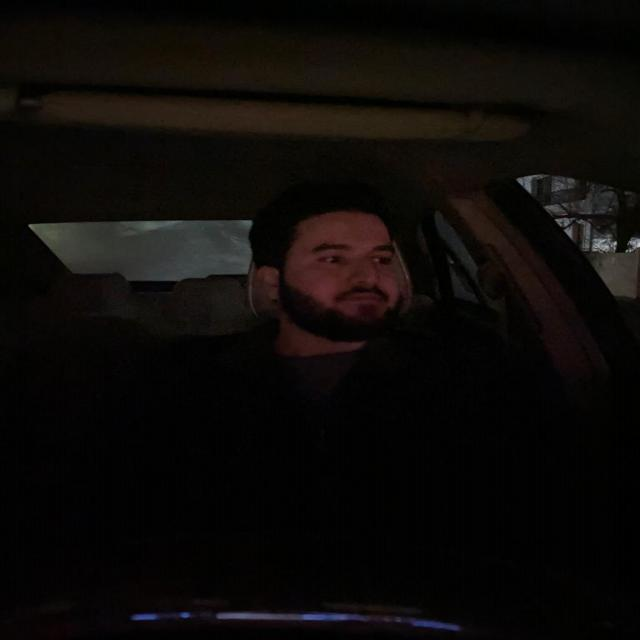person: (248, 191, 409, 345)
